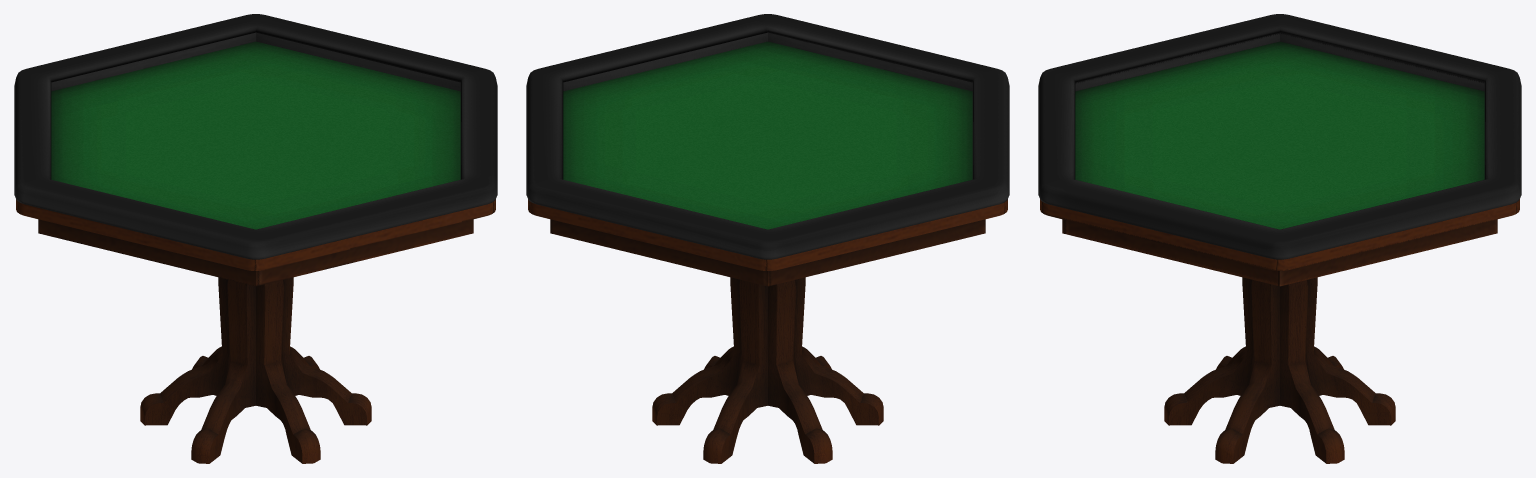
File: PokerTable6Sided.obj
The picture shows the model from 3 angles, left to right: view 1: azimuth 30°, elevation 25°; view 2: azimuth 150°, elevation 25°; view 3: azimuth 270°, elevation 25°; orthographic projection.
Parts seen in each view (by area): view 1: PokerTable6Sided; view 2: PokerTable6Sided; view 3: PokerTable6Sided.
Boxes of the visible parts, x1,y1,x2,y2 form: PokerTable6Sided: (14, 14, 497, 463); PokerTable6Sided: (526, 14, 1009, 463); PokerTable6Sided: (1038, 14, 1521, 463).
Size of the model in its own units: 2.21 by 1.29 by 1.93.
1 material, 1 textured.
